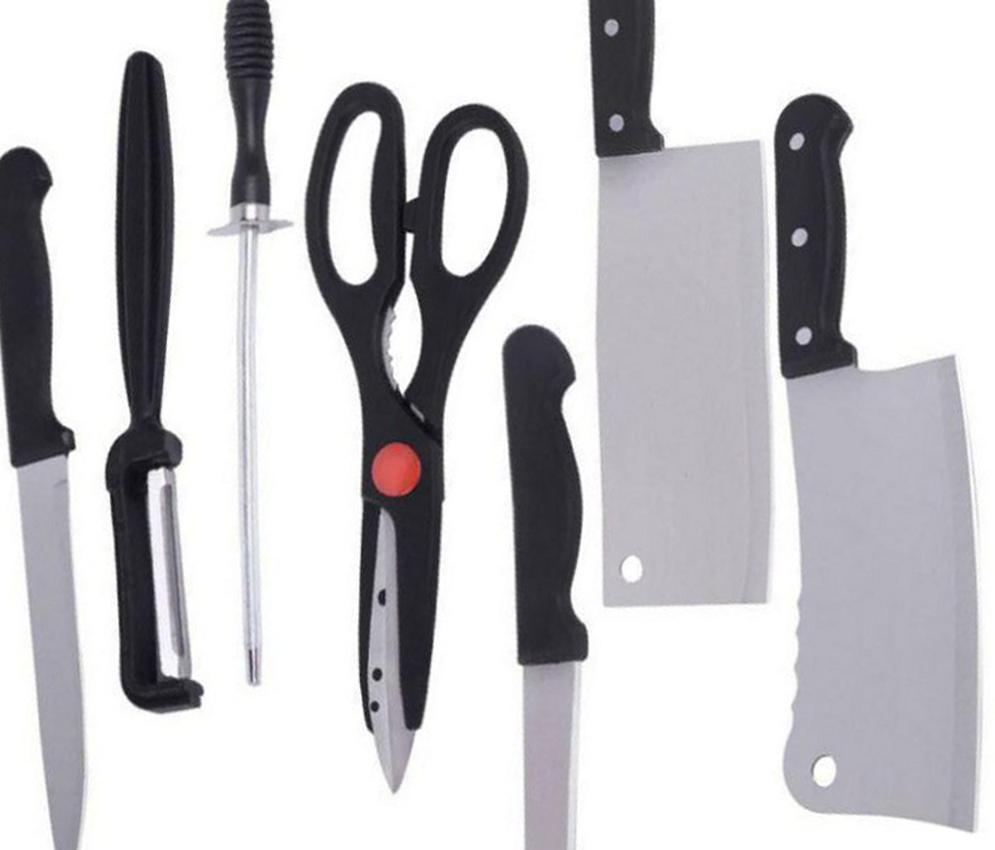knife: (1, 146, 83, 831)
